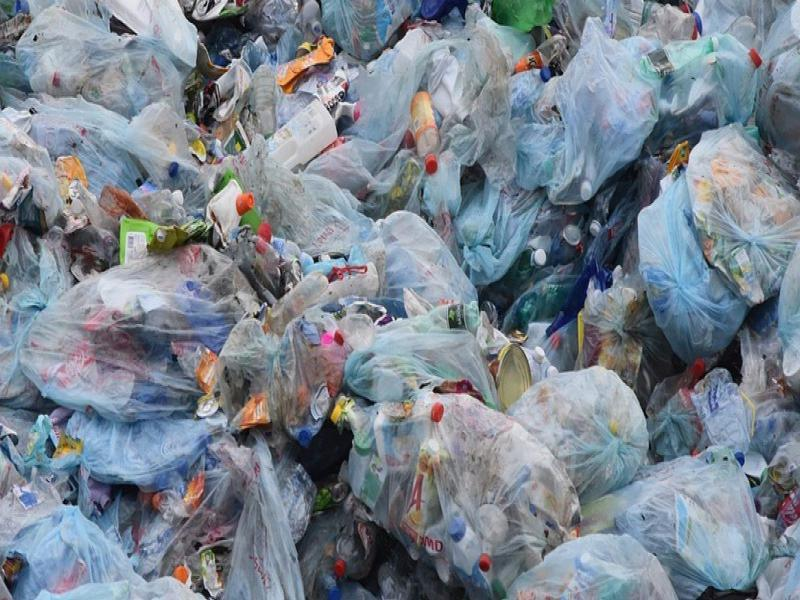plastic: (16, 249, 265, 432), (369, 388, 589, 587), (542, 7, 671, 214), (11, 4, 216, 125), (681, 121, 800, 315), (619, 452, 772, 600), (634, 179, 747, 371), (502, 364, 653, 498), (324, 35, 435, 190), (240, 134, 382, 255), (351, 204, 493, 314), (3, 495, 147, 600), (337, 327, 506, 413), (59, 410, 223, 493)
